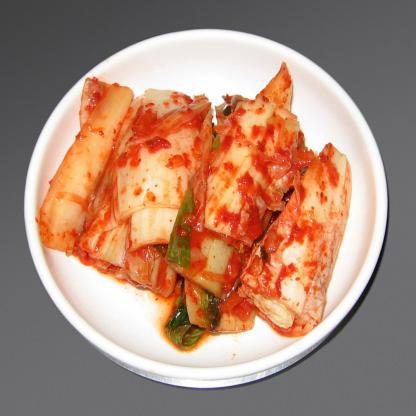kimchi: (55, 76, 350, 339)
